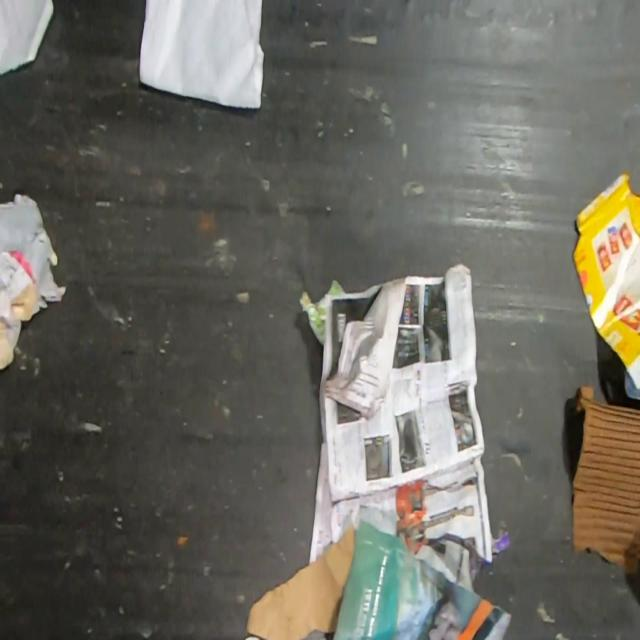cardboard: (572, 171, 640, 392), (570, 383, 640, 579), (242, 519, 355, 640)
soft_plastic: (0, 194, 66, 313)
